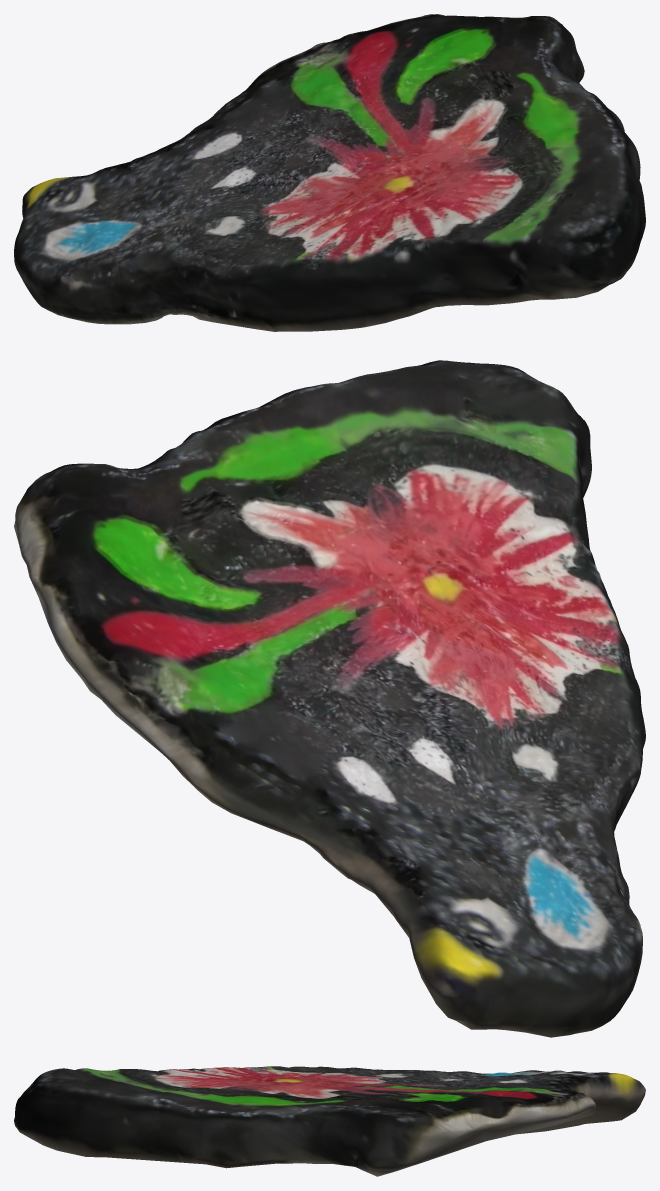
3 views of the same model, one above another, from view 1: azimuth 30°, elevation 25°; view 2: azimuth 150°, elevation 25°; view 3: azimuth 270°, elevation 25° (orthographic). The views are drawn at different scales.
Bounding box in the file's own units: 0.5266 × 0.2414 × 0.6225.
Materials: 1 (1 with a texture image).
